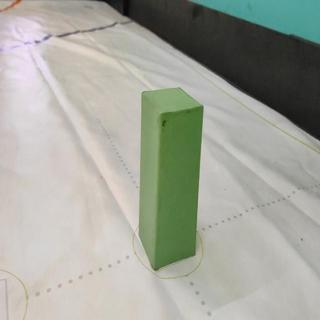greenbox: (140, 87, 204, 269)
